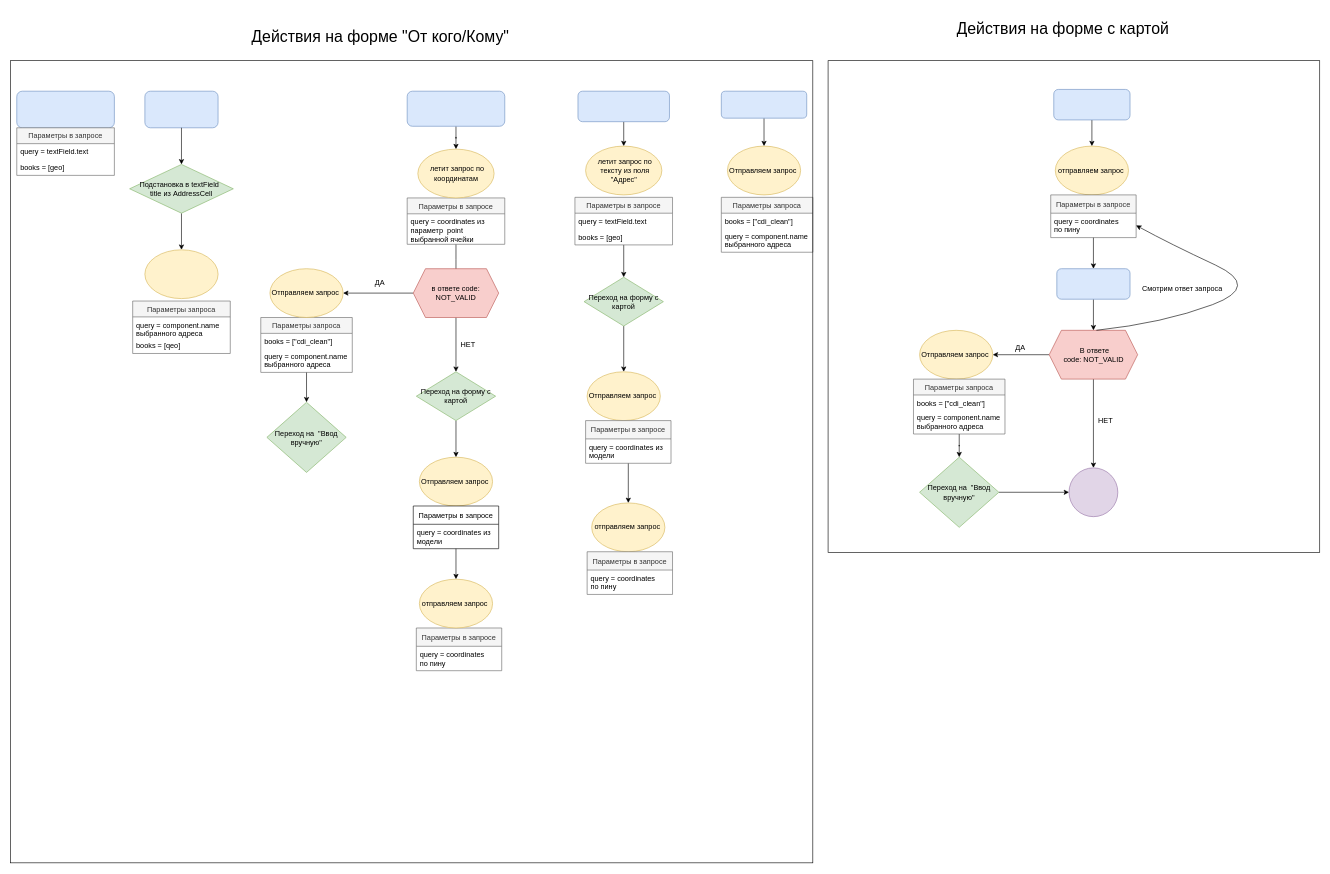
Image size: 1330x874. Some labels were removed from this diagram. Each missing label, with the centre of its shape:
FINISH: [1093,492]
Ввод адреса: [65,109]
Выбор адреса, нажатием на название: [456,108]
Изменение адреса движением по карте: [1091,104]
Нажатие на "Карта": [623,106]
Нажатие на Выбрать: [1093,283]
нажатие на стрелку (подстановка адреса): [181,109]
Нвжатие на "Указать адрес вручную": [764,104]
Отправляется запрос в адресатор: [181,274]
